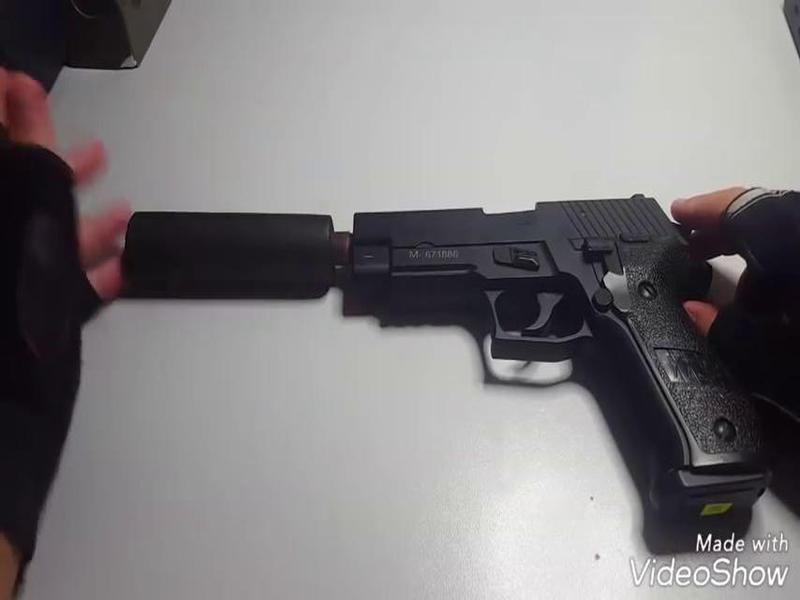Pistola: (342, 183, 789, 534)
